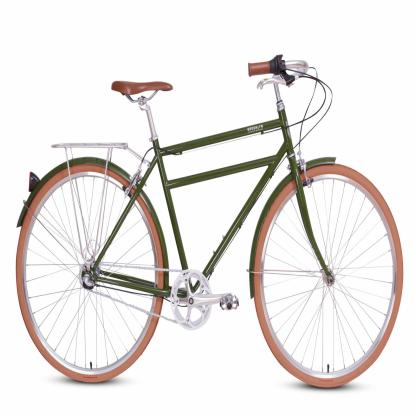Bike: (14, 55, 405, 390)
